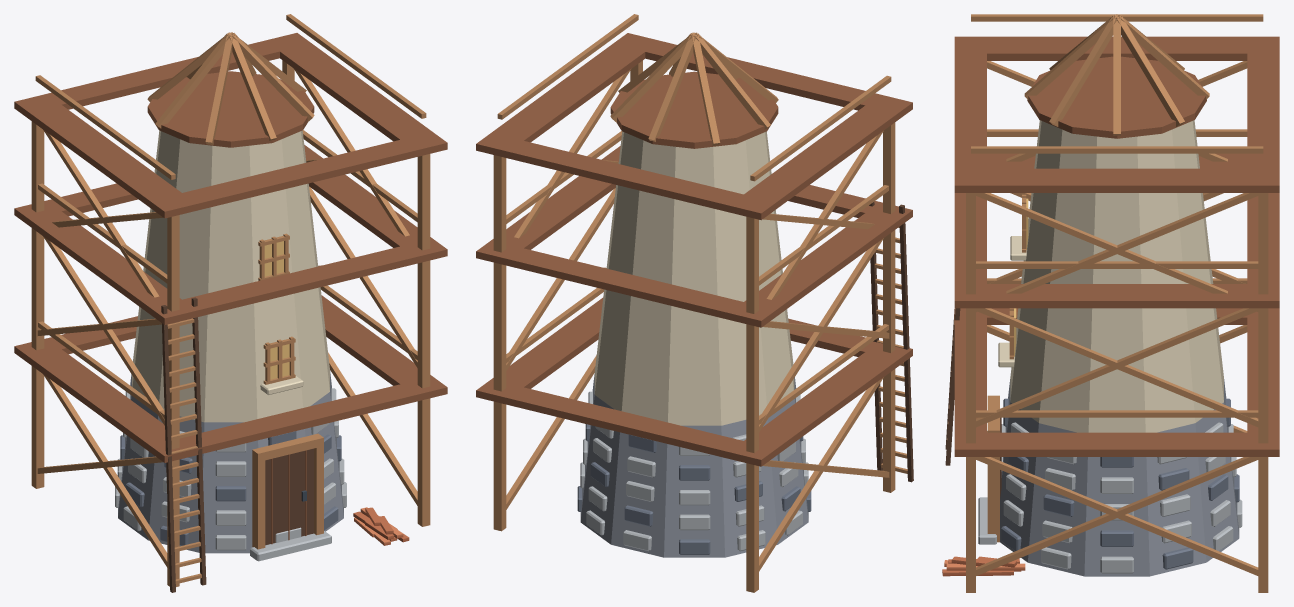
Rendered from windmill_scaffold.glb.
3 renders of one model, left to right at view 1: azimuth 30°, elevation 25°; view 2: azimuth 150°, elevation 25°; view 3: azimuth 270°, elevation 25°, orthographic. The views are drawn at different scales.
Visible parts, largest first — view 1: windmill_scaffold_建筑共用调色板, windmill_scaffold_survival-kit 调色板; view 2: windmill_scaffold_建筑共用调色板; view 3: windmill_scaffold_建筑共用调色板, windmill_scaffold_survival-kit 调色板.
Part boxes in pixels (<box>): windmill_scaffold_建筑共用调色板: <box>14,14,447,592</box>; windmill_scaffold_survival-kit 调色板: <box>353,507,409,545</box>; windmill_scaffold_建筑共用调色板: <box>476,14,913,592</box>; windmill_scaffold_建筑共用调色板: <box>945,14,1279,592</box>; windmill_scaffold_survival-kit 调色板: <box>942,556,1025,576</box>.
Size of the model in its own units: 5.69 by 9.06 by 5.44.
Materials: 2 (2 with a texture image).
